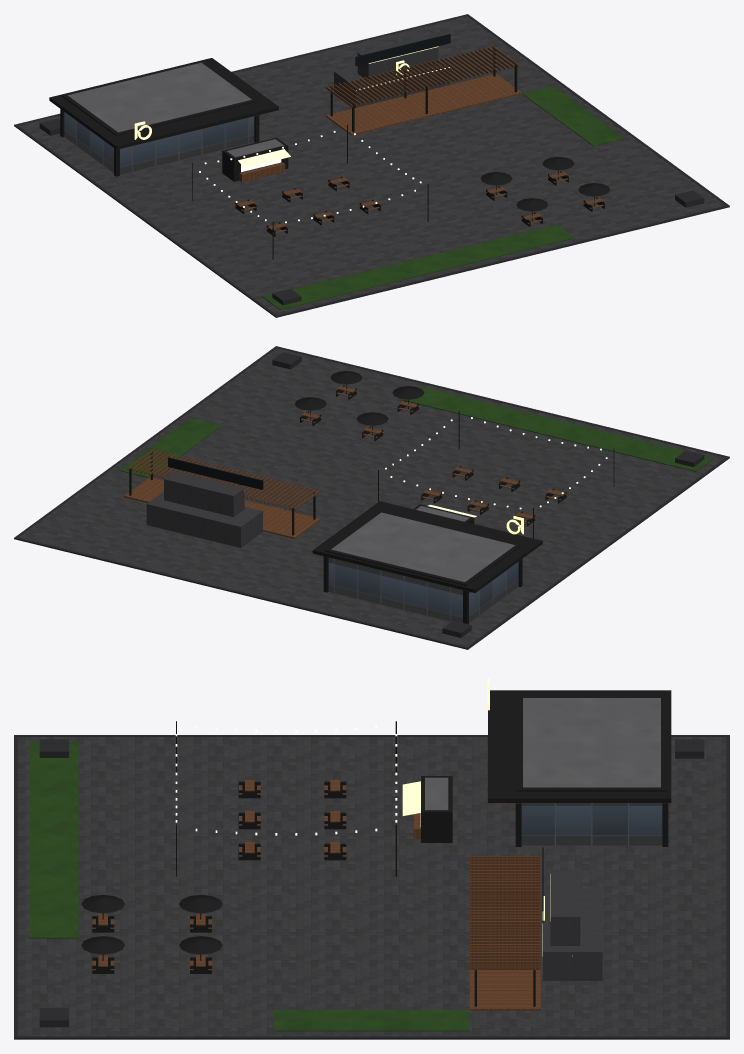
File: fans_L3.glb
The picture shows the model from 3 angles, top to bottom: view 1: azimuth 30°, elevation 25°; view 2: azimuth 150°, elevation 25°; view 3: azimuth 270°, elevation 25°; orthographic projection. The views are drawn at different scales.
Parts seen in each view (by area): view 1: paving_fans_L3, wood_fans_L3, black_metal_fans_L3, lawn_fans_L3, roofing_fans_L3, concrete_dark_fans_L3, emissive_curtain_fans_L3, cladding_fans_L3, emissive_led_fans_L3, glass_fans_L3; view 2: paving_fans_L3, black_metal_fans_L3, roofing_fans_L3, lawn_fans_L3, emissive_curtain_fans_L3, cladding_fans_L3, wood_fans_L3, concrete_dark_fans_L3, glass_fans_L3; view 3: paving_fans_L3, black_metal_fans_L3, lawn_fans_L3, wood_fans_L3, roofing_fans_L3, concrete_dark_fans_L3, emissive_curtain_fans_L3, cladding_fans_L3, emissive_led_fans_L3.
Part boxes in pixels (<box>): paving_fans_L3: <box>18,16,725,314</box>; wood_fans_L3: <box>116,45,605,233</box>; black_metal_fans_L3: <box>49,33,610,259</box>; lawn_fans_L3: <box>262,86,624,309</box>; roofing_fans_L3: <box>68,62,283,157</box>; concrete_dark_fans_L3: <box>14,14,729,317</box>; emissive_curtain_fans_L3: <box>64,112,254,174</box>; cladding_fans_L3: <box>334,35,450,107</box>; emissive_led_fans_L3: <box>134,46,449,167</box>; glass_fans_L3: <box>355,34,450,66</box>; paving_fans_L3: <box>18,348,725,646</box>; black_metal_fans_L3: <box>129,371,614,624</box>; roofing_fans_L3: <box>331,506,515,582</box>; lawn_fans_L3: <box>119,386,713,477</box>; emissive_curtain_fans_L3: <box>328,557,518,622</box>; cladding_fans_L3: <box>146,471,262,547</box>; wood_fans_L3: <box>124,386,567,592</box>; concrete_dark_fans_L3: <box>14,346,729,649</box>; glass_fans_L3: <box>168,458,263,489</box>; paving_fans_L3: <box>17,737,726,1036</box>; black_metal_fans_L3: <box>81,690,671,1006</box>; lawn_fans_L3: <box>30,741,469,1031</box>; wood_fans_L3: <box>92,780,670,1010</box>; roofing_fans_L3: <box>425,698,660,810</box>; concrete_dark_fans_L3: <box>14,735,729,1039</box>; emissive_curtain_fans_L3: <box>521,803,662,845</box>; cladding_fans_L3: <box>543,870,602,980</box>; emissive_led_fans_L3: <box>402,678,572,956</box>.
Size of the model in its own units: 58.6 by 7.25 by 58.6.
Materials: 11 (6 with a texture image).
